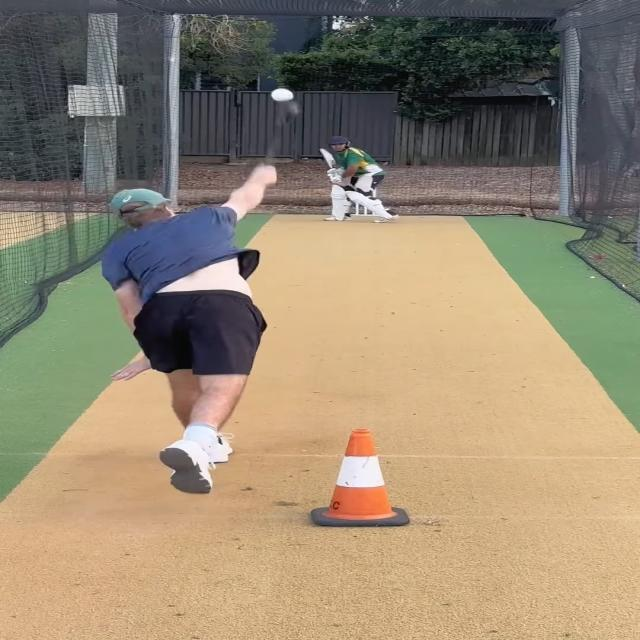Cricket ball: (267, 86, 297, 104)
